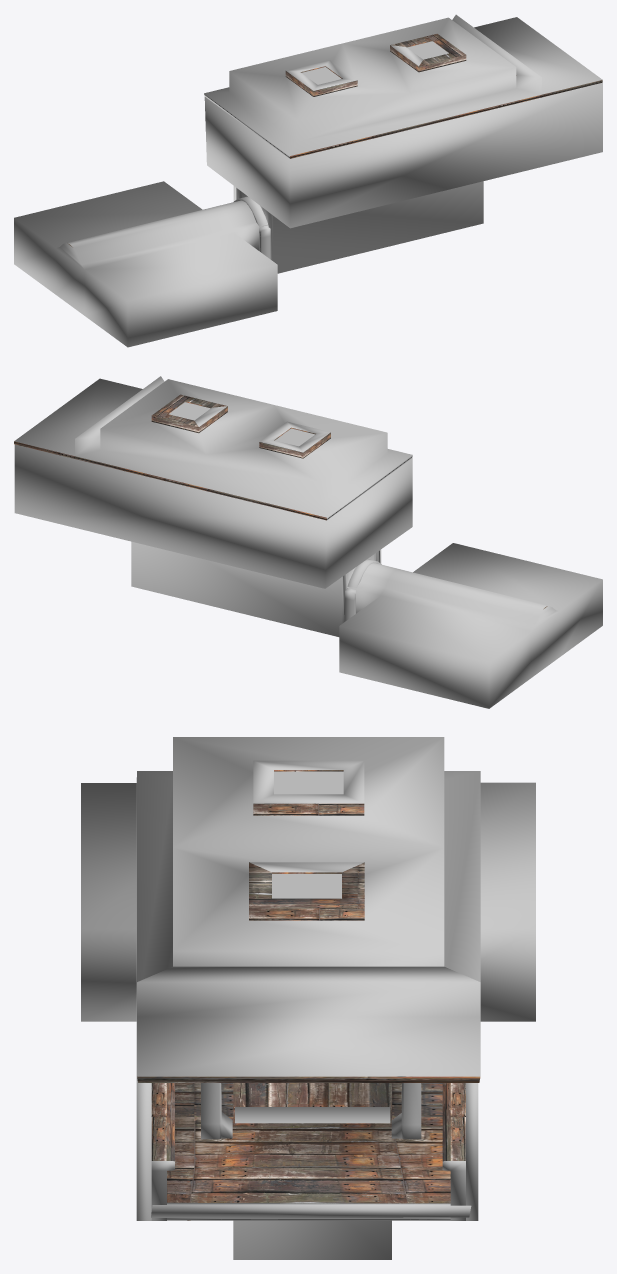
The model's file is DungeonRoomC.fbx.
3 views of the same model, one above another, from view 1: azimuth 30°, elevation 25°; view 2: azimuth 150°, elevation 25°; view 3: azimuth 270°, elevation 25° (orthographic). The views are drawn at different scales.
Visible parts, largest first — view 1: DungeonRoomC, DungeonRoomCroof, DungeonRoomCGrate, DungeonRoomCArches; view 2: DungeonRoomC, DungeonRoomCroof, DungeonRoomCGrate, DungeonRoomCArches; view 3: DungeonRoomCroof, DungeonRoomC, DungeonRoomCGrate, DungeonRoomCArches, DungeonRoomCsteps.
Boxes of the visible parts, box(x1,y1,x2,y2) form: DungeonRoomC: box(14, 82, 602, 347); DungeonRoomCroof: box(204, 14, 602, 158); DungeonRoomCGrate: box(302, 41, 448, 84); DungeonRoomCArches: box(234, 196, 270, 259); DungeonRoomC: box(14, 444, 602, 708); DungeonRoomCroof: box(14, 376, 412, 520); DungeonRoomCGrate: box(169, 402, 314, 446); DungeonRoomCArches: box(345, 559, 381, 621); DungeonRoomCroof: box(137, 737, 480, 1082); DungeonRoomC: box(81, 777, 535, 1259); DungeonRoomCGrate: box(272, 771, 343, 898); DungeonRoomCArches: box(201, 1083, 421, 1139); DungeonRoomCsteps: box(235, 1107, 390, 1123).
Bounding box in the file's own units: 2430 × 812 × 979.
